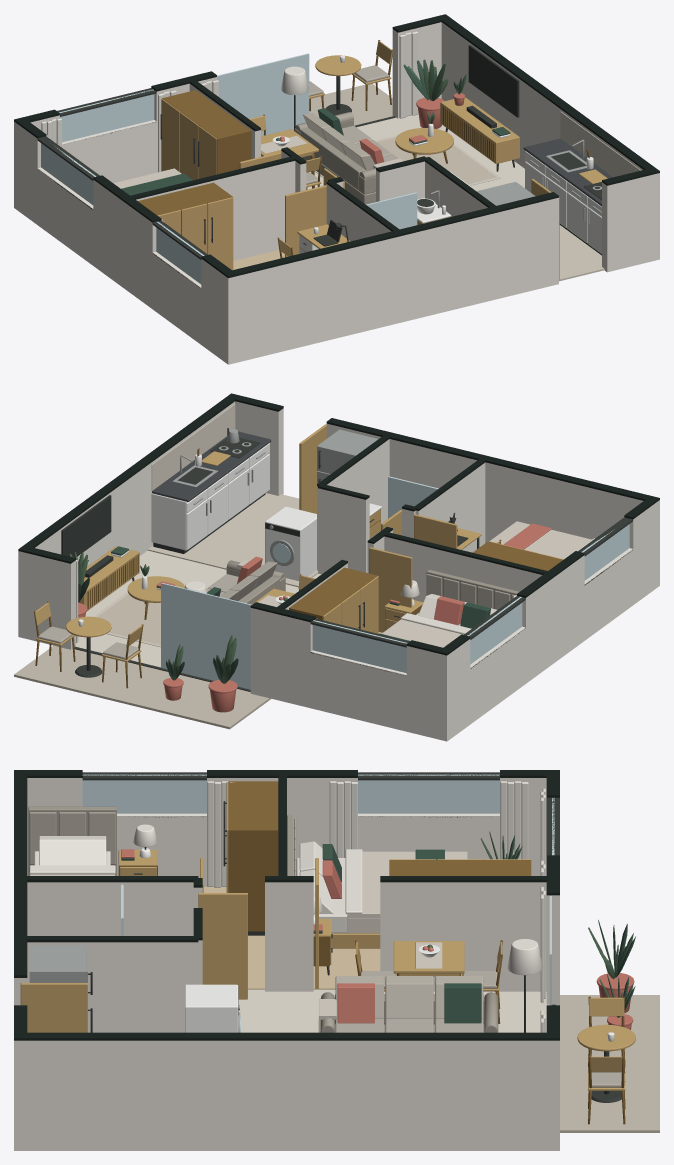
The model's file is jda-interior-tipo-a-terreo.glb.
3 renders of one model, top to bottom at view 1: azimuth 30°, elevation 25°; view 2: azimuth 150°, elevation 25°; view 3: azimuth 270°, elevation 25°, orthographic. The views are drawn at different scales.
Parts seen in each view (by area): view 1: VIS__INTA_PAREDE, VIS__INTA_MADEIRA, VIS__INTA_VIDRO, VIS__INTA_CORTE, VIS__INTA_MADEIRA_ESC, VIS__INTA_ESCURO, VIS__INTA_BRANCO, VIS__INTA_TECIDO, VIS__INTA_TECIDO2, VIS__INTA_ESTOFADO, VIS__INTA_ESTOFADO2, VIS__INTA_PISO (+8 smaller); view 2: VIS__INTA_PAREDE, VIS__INTA_VIDRO, VIS__INTA_MADEIRA, VIS__INTA_CORTE, VIS__INTA_BRANCO, VIS__INTA_VARANDA, VIS__INTA_ESCURO, VIS__INTA_TECIDO2, VIS__INTA_MADEIRA_ESC, VIS__INTA_MOLHADO, VIS__INTA_ESTOFADO2, VIS__INTA_PISO (+8 smaller); view 3: VIS__INTA_PAREDE, VIS__INTA_CORTE, VIS__INTA_MADEIRA, VIS__INTA_TECIDO, VIS__INTA_VIDRO, VIS__INTA_MADEIRA_ESC, VIS__INTA_VARANDA, VIS__INTA_ESTOFADO2, VIS__INTA_PISO, VIS__INTA_ESCURO, VIS__INTA_TECIDO2, VIS__INTA_TERRACOTA (+6 smaller).
Part boxes in pixels (x1,y1,x2,y2): VIS__INTA_PAREDE: (14,22,659,364); VIS__INTA_MADEIRA: (157,41,607,280); VIS__INTA_VIDRO: (41,53,417,284); VIS__INTA_CORTE: (14,14,659,287); VIS__INTA_MADEIRA_ESC: (138,40,589,258); VIS__INTA_ESCURO: (37,45,601,259); VIS__INTA_BRANCO: (272,55,601,253); VIS__INTA_TECIDO: (41,31,418,221); VIS__INTA_TECIDO2: (114,111,640,188); VIS__INTA_ESTOFADO: (294,112,375,204); VIS__INTA_ESTOFADO2: (303,65,398,184); VIS__INTA_PISO: (307,114,604,281); VIS__INTA_PAREDE: (18,401,659,741); VIS__INTA_VIDRO: (161,476,629,689); VIS__INTA_MADEIRA: (35,424,563,662); VIS__INTA_CORTE: (18,393,659,675); VIS__INTA_BRANCO: (78,443,462,626); VIS__INTA_VARANDA: (14,645,270,729); VIS__INTA_ESCURO: (61,428,632,691); VIS__INTA_TECIDO2: (93,404,591,647); VIS__INTA_MADEIRA_ESC: (34,448,562,688); VIS__INTA_MOLHADO: (147,493,380,587); VIS__INTA_ESTOFADO2: (37,561,514,659); VIS__INTA_PISO: (75,550,321,667); VIS__INTA_PAREDE: (14,778,559,1150); VIS__INTA_CORTE: (14,770,559,1040); VIS__INTA_MADEIRA: (20,782,635,1090); VIS__INTA_TECIDO: (29,781,545,1032); VIS__INTA_VIDRO: (82,774,554,1032); VIS__INTA_MADEIRA_ESC: (118,781,625,1124); VIS__INTA_VARANDA: (560,995,659,1132); VIS__INTA_ESTOFADO2: (29,812,624,1087); VIS__INTA_PISO: (238,989,549,1032); VIS__INTA_ESCURO: (82,772,621,1102); VIS__INTA_TECIDO2: (30,851,467,1032); VIS__INTA_TERRACOTA: (121,849,634,1029).
Bounding box in the file's own units: 7.15 × 1.44 × 7.28.
